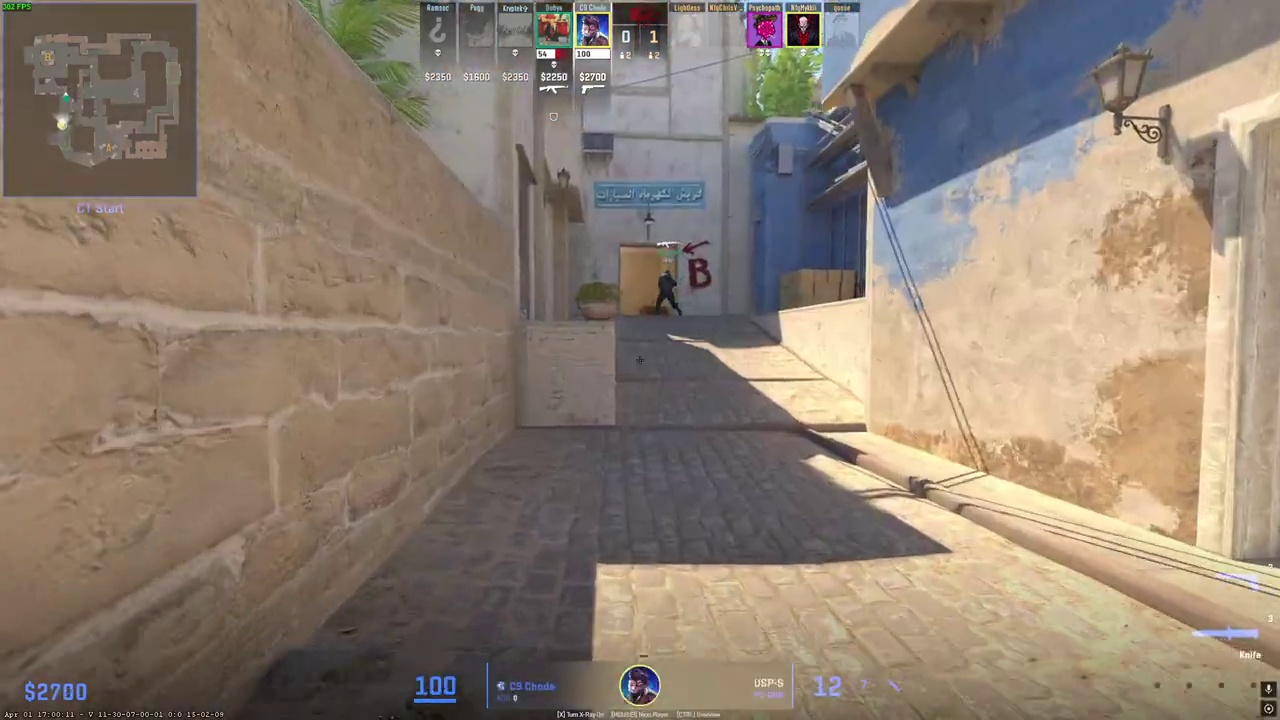CT: (655, 270, 679, 315)
